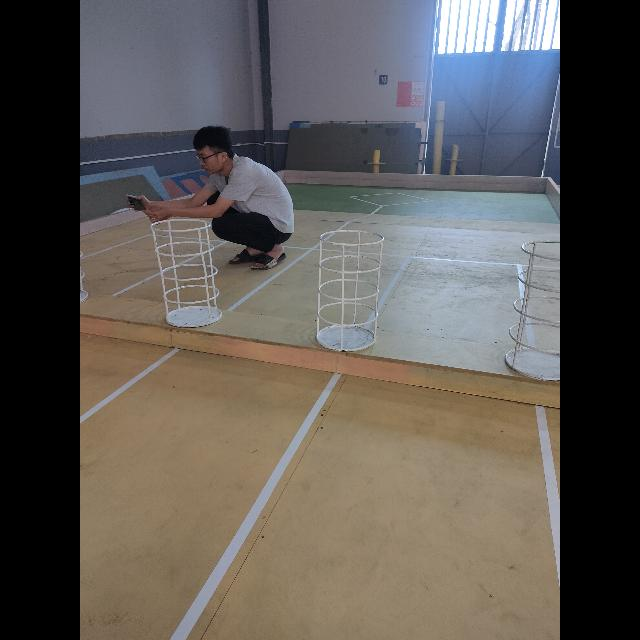S: (315, 229, 384, 352), (150, 218, 223, 328)
